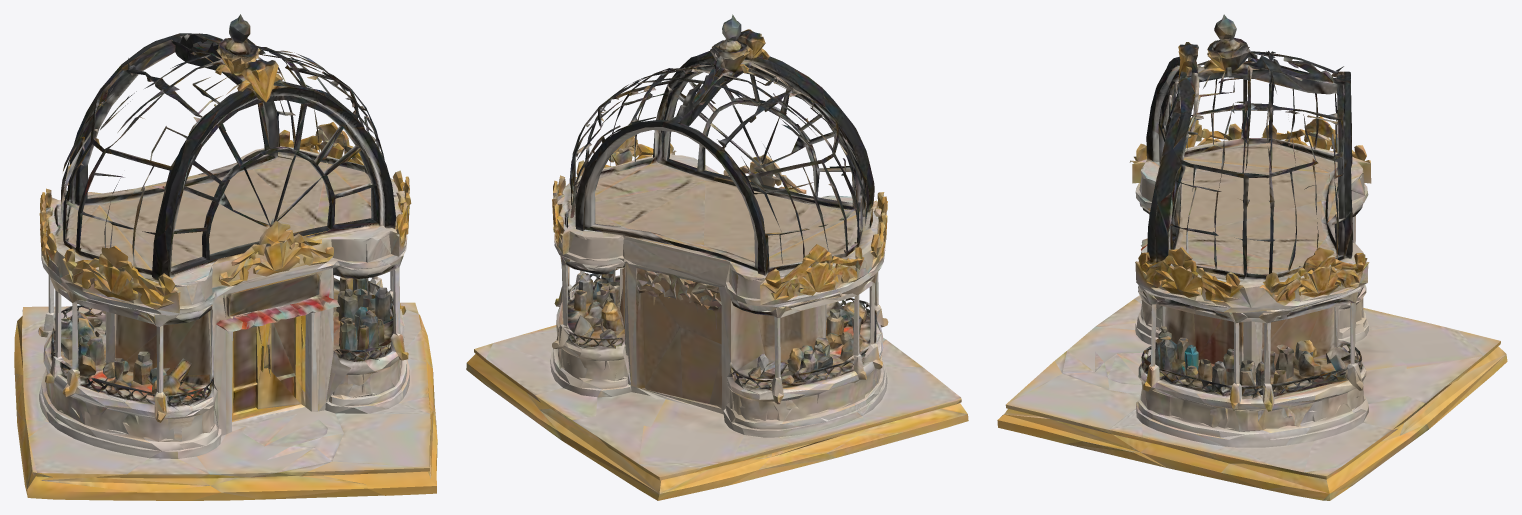
Rendered from lm_grand_arcade.glb.
3 views of the same model, side by side, from view 1: azimuth 30°, elevation 25°; view 2: azimuth 150°, elevation 25°; view 3: azimuth 270°, elevation 25° (orthographic). The views are drawn at different scales.
Bounding box in the file's own units: 1.89 × 1.56 × 1.9.
1 material, 1 textured.
